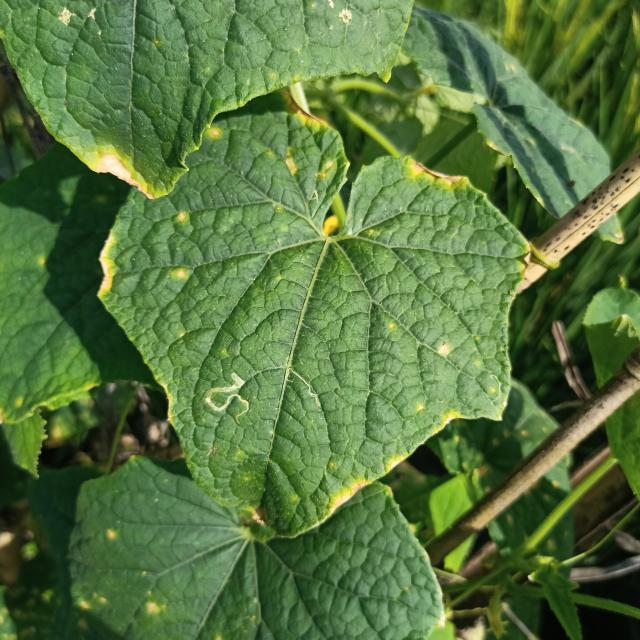disease_cucumber: (284, 109, 334, 184), (409, 396, 464, 430), (170, 266, 190, 285), (436, 342, 452, 357), (175, 210, 187, 225)
